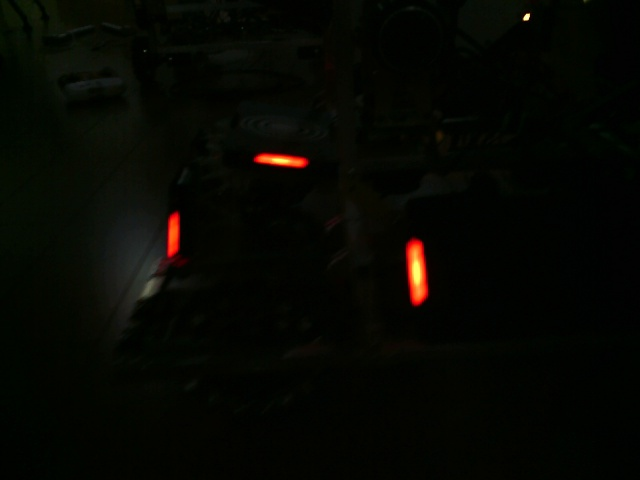lamp: (404, 238, 433, 306), (162, 211, 184, 258)
